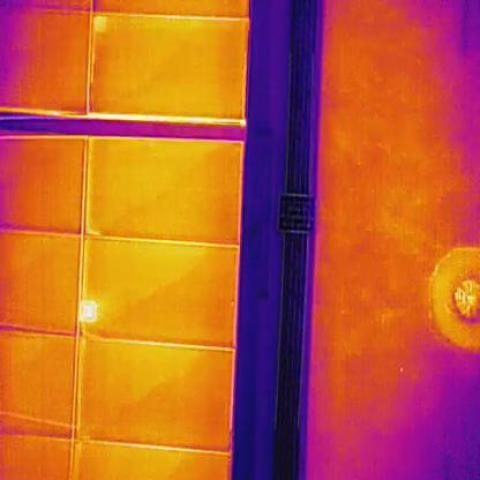fault: (91, 11, 109, 34), (80, 299, 96, 322)
